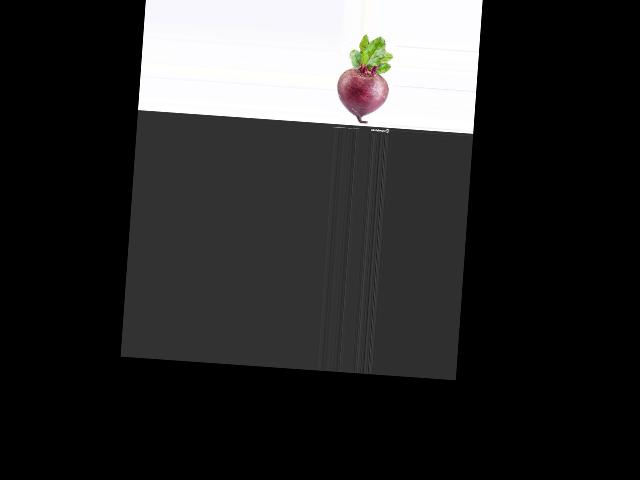beet: (334, 32, 394, 124)
